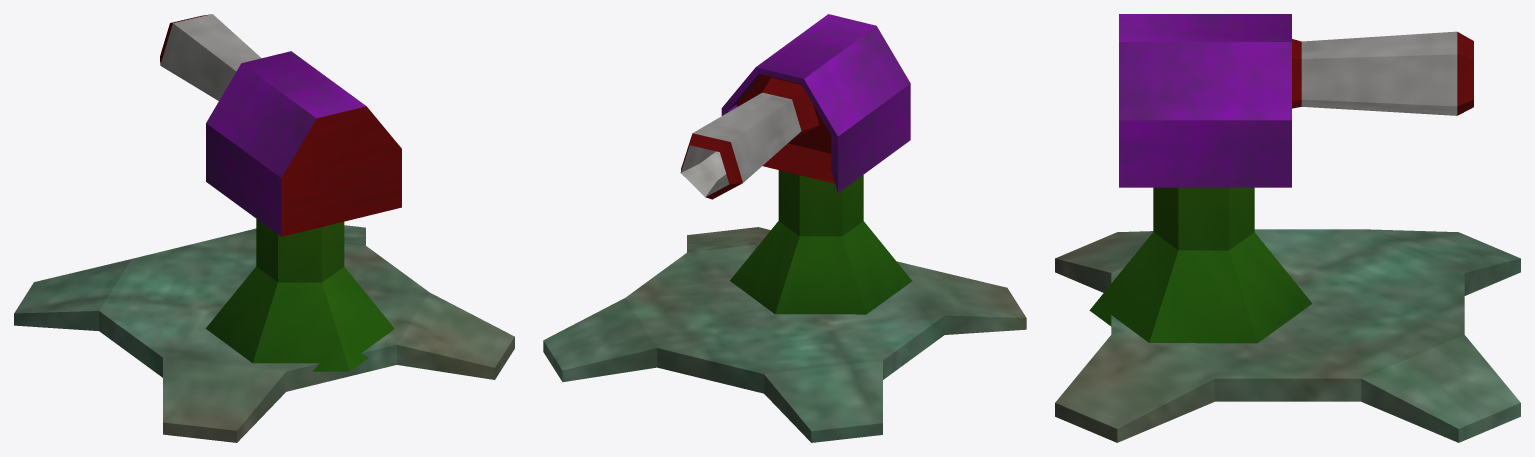
File: TorreTinta1MAISCAFE.fbx
3 renders of one model, left to right at view 1: azimuth 30°, elevation 25°; view 2: azimuth 150°, elevation 25°; view 3: azimuth 270°, elevation 25°, orthographic. The views are drawn at different scales.
Parts seen in each view (by area): view 1: Torre, Base; view 2: Base, Torre; view 3: Torre, Base.
Part boxes in pixels (x1,y1,x2,y2): Torre: (160,14,401,371); Base: (14,225,514,442); Base: (543,227,1026,442); Torre: (680,14,912,314); Torre: (1089,14,1473,343); Base: (1055,229,1520,442).
Size of the model in its own units: 2.98 by 2.25 by 2.98.
